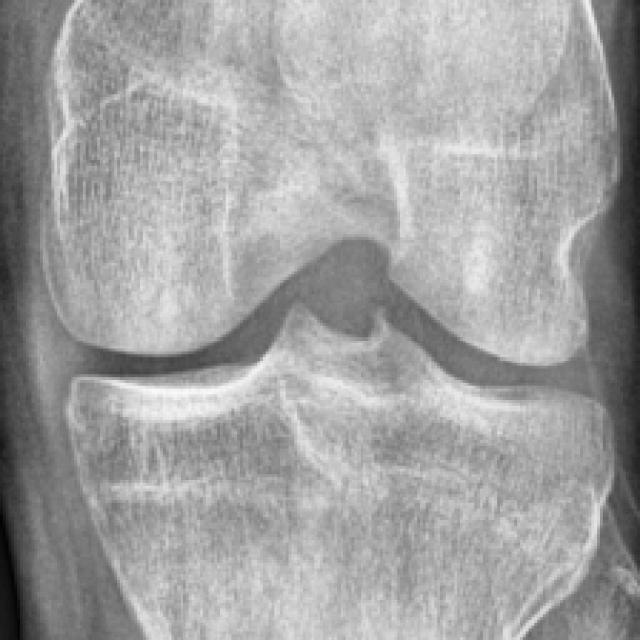femur: (54, 1, 614, 364)
tibia: (71, 317, 609, 637)
